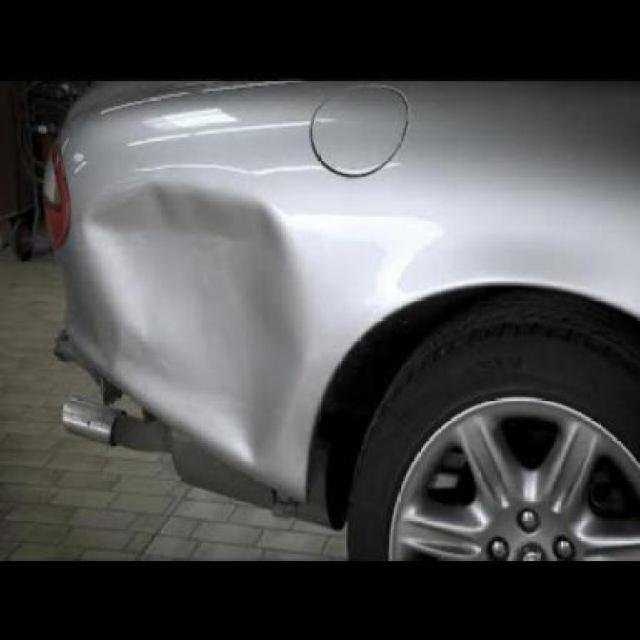damage: (80, 170, 314, 463)
